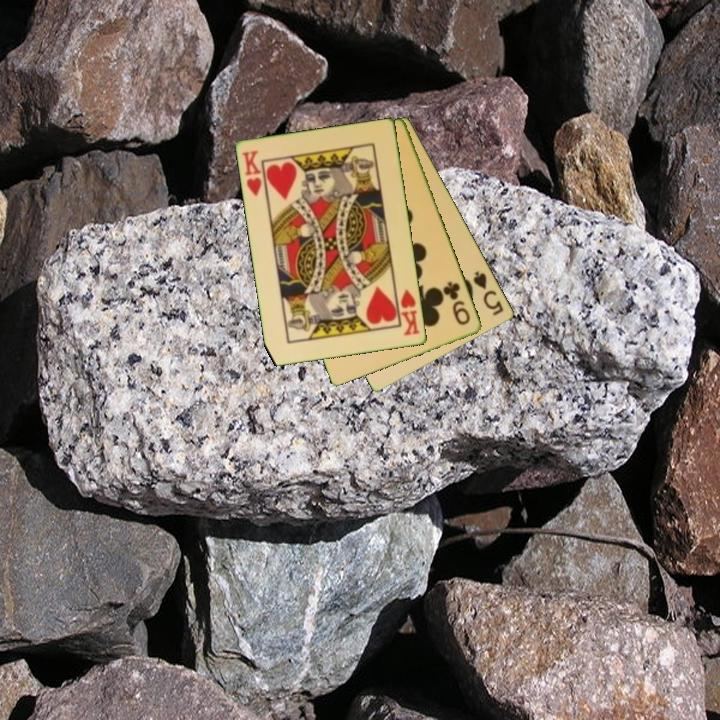5s: (470, 268, 507, 319)
9c: (440, 278, 473, 328)
Kh: (393, 285, 423, 339), (239, 147, 269, 200)
